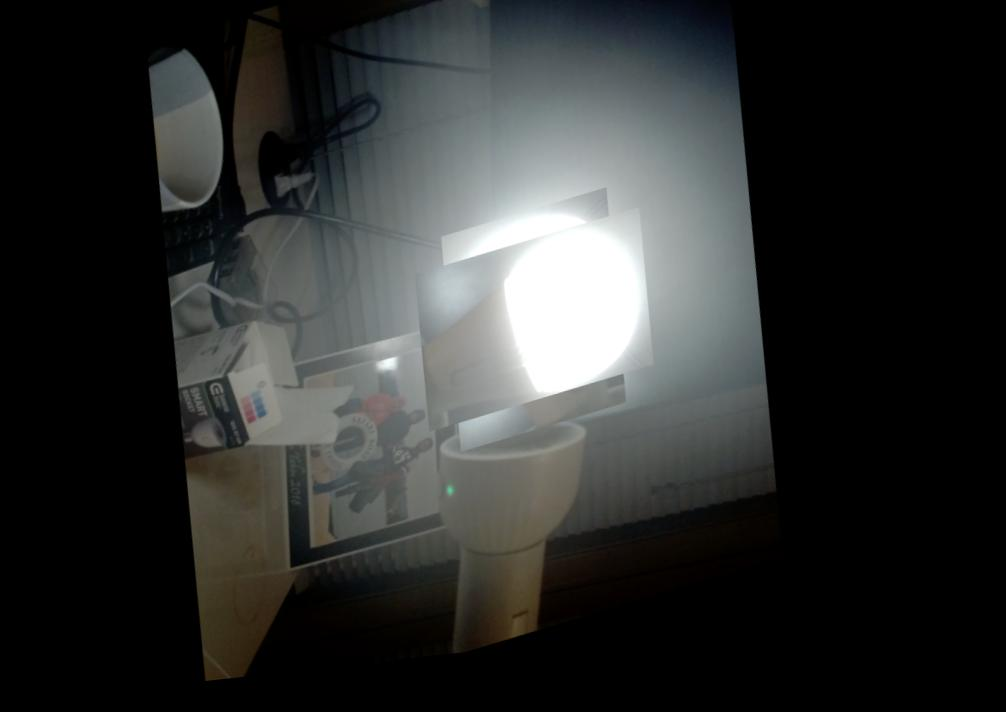TubeLight: (419, 208, 665, 456)
